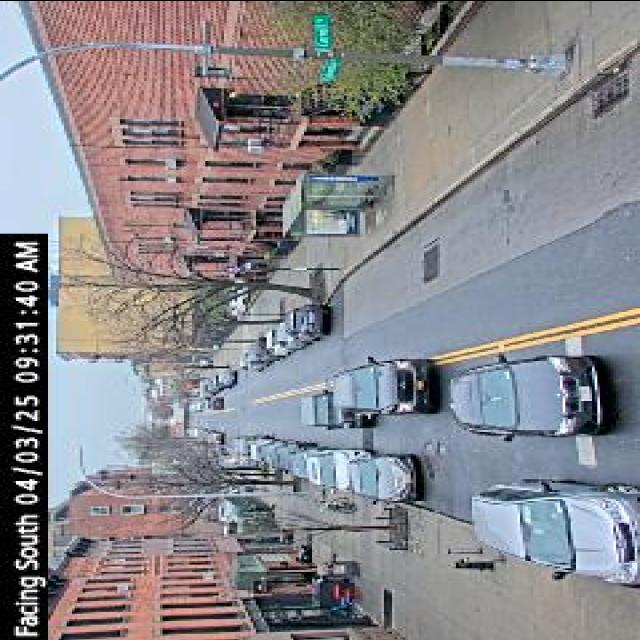open parking: (322, 446, 610, 534)
